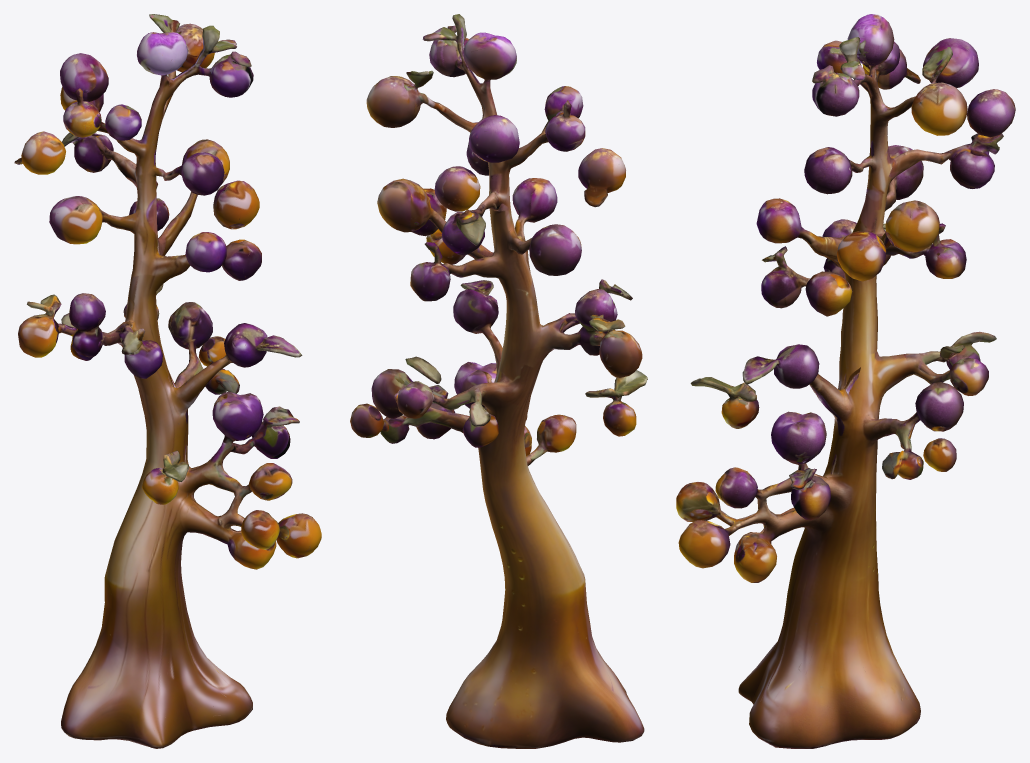
3 renders of one model, left to right at view 1: azimuth 30°, elevation 25°; view 2: azimuth 150°, elevation 25°; view 3: azimuth 270°, elevation 25°, orthographic. The views are drawn at different scales.
Parts seen in each view (by area): view 1: Mesh1.0; view 2: Mesh1.0; view 3: Mesh1.0.
Boxes of the visible parts, left/top/right/bottom form: Mesh1.0: left=14, top=14, right=321, bottom=748; Mesh1.0: left=350, top=14, right=647, bottom=748; Mesh1.0: left=676, top=14, right=1015, bottom=748.
Size of the model in its own units: 77.72 by 201 by 87.25.
Materials: 1 (1 with a texture image).
